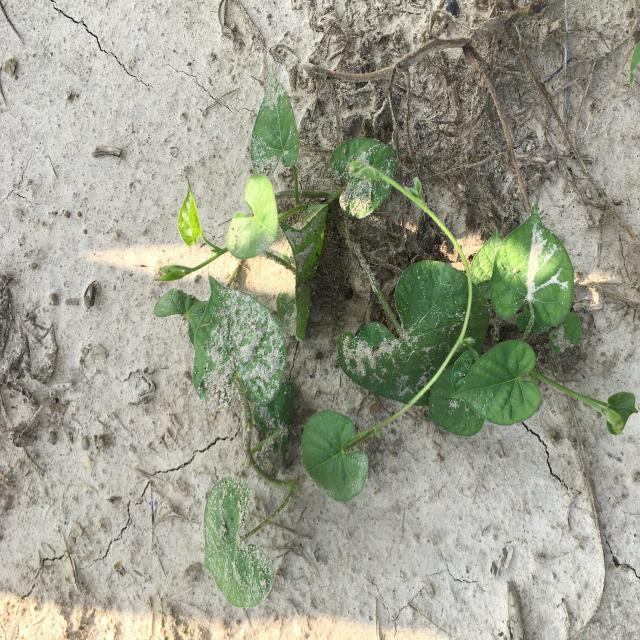MorningGlory: (154, 63, 638, 608)
